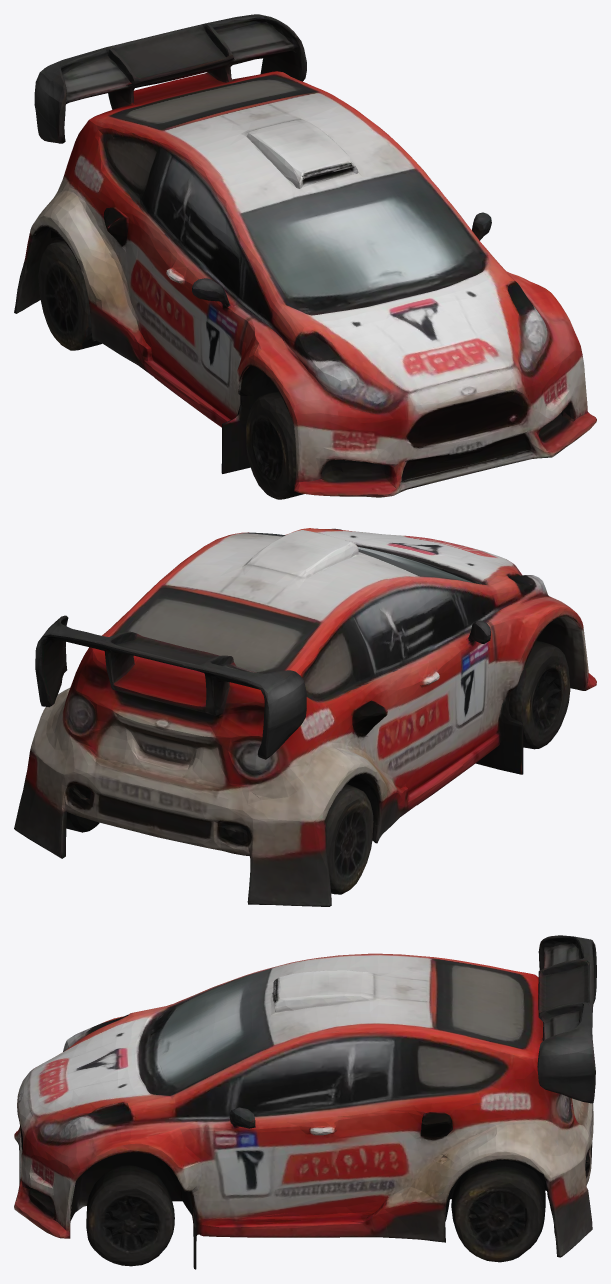
The picture shows the model from 3 angles, top to bottom: view 1: azimuth 30°, elevation 25°; view 2: azimuth 150°, elevation 25°; view 3: azimuth 270°, elevation 25°; orthographic projection. The views are drawn at different scales.
Visible parts, largest first — view 1: geometry_0; view 2: geometry_0; view 3: geometry_0.
Part boxes in pixels (x1,y1,x2,y2): geometry_0: (14, 14, 596, 499); geometry_0: (14, 528, 596, 906); geometry_0: (14, 935, 596, 1269).
Bounding box in the file's own units: 0.5684 × 0.4233 × 0.9978.
Materials: 1 (1 with a texture image).
